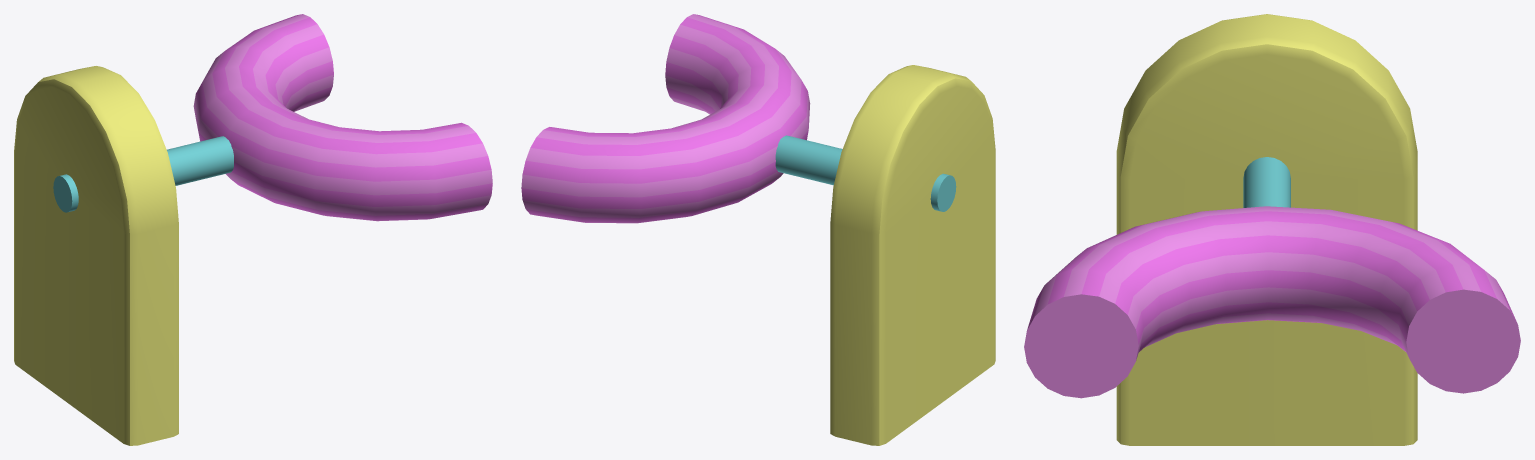
File: Obstacle05.fbx
The picture shows the model from 3 angles, left to right: view 1: azimuth 30°, elevation 25°; view 2: azimuth 150°, elevation 25°; view 3: azimuth 270°, elevation 25°; orthographic projection. The views are drawn at different scales.
Parts seen in each view (by area): view 1: Obstacle05_msh, Donut_msh, Obstacle05_Rod_msh; view 2: Obstacle05_msh, Donut_msh, Obstacle05_Rod_msh; view 3: Obstacle05_msh, Donut_msh, Obstacle05_Rod_msh.
Part boxes in pixels (x1,y1,x2,y2): Obstacle05_msh: (14,66,178,445); Donut_msh: (193,14,492,221); Obstacle05_Rod_msh: (53,136,233,212); Obstacle05_msh: (830,65,995,445); Donut_msh: (521,14,810,223); Obstacle05_Rod_msh: (775,135,956,211); Obstacle05_msh: (1116,14,1417,445); Donut_msh: (1024,206,1520,398); Obstacle05_Rod_msh: (1243,157,1290,207).
Size of the model in its own units: 3.24 by 2.96 by 3.3.
